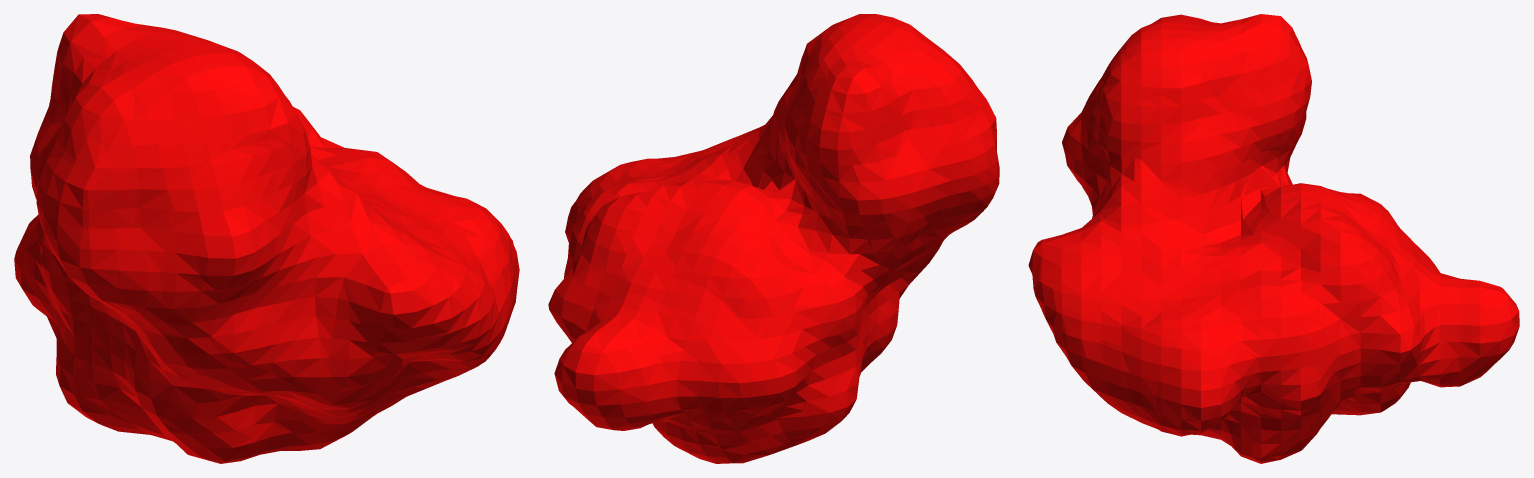
The model's file is ltaE_coarse.dae.
The picture shows the model from 3 angles, left to right: view 1: azimuth 30°, elevation 25°; view 2: azimuth 150°, elevation 25°; view 3: azimuth 270°, elevation 25°; orthographic projection. The views are drawn at different scales.
Visible parts, largest first — view 1: ltaE; view 2: ltaE; view 3: ltaE.
Part boxes in pixels (x1,y1,x2,y2): ltaE: (14, 14, 519, 463); ltaE: (548, 14, 999, 463); ltaE: (1028, 14, 1519, 463).
Size of the model in its own units: 61.8 by 54.12 by 67.86.
